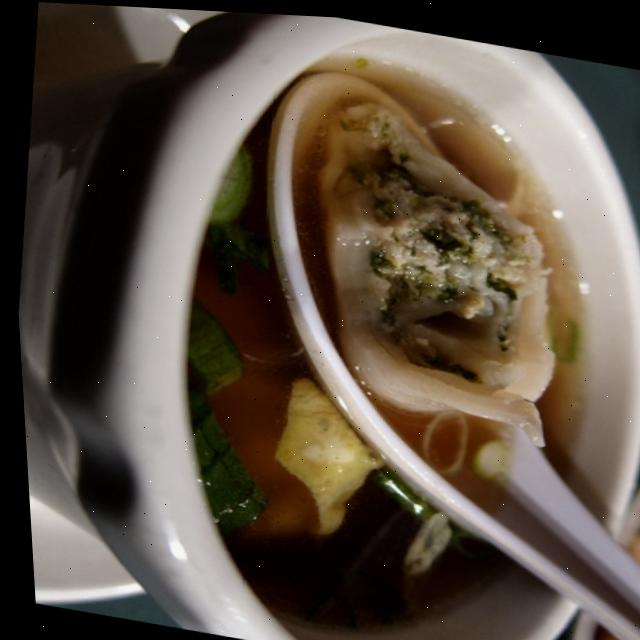汤锅炖物: (83, 3, 640, 640)
